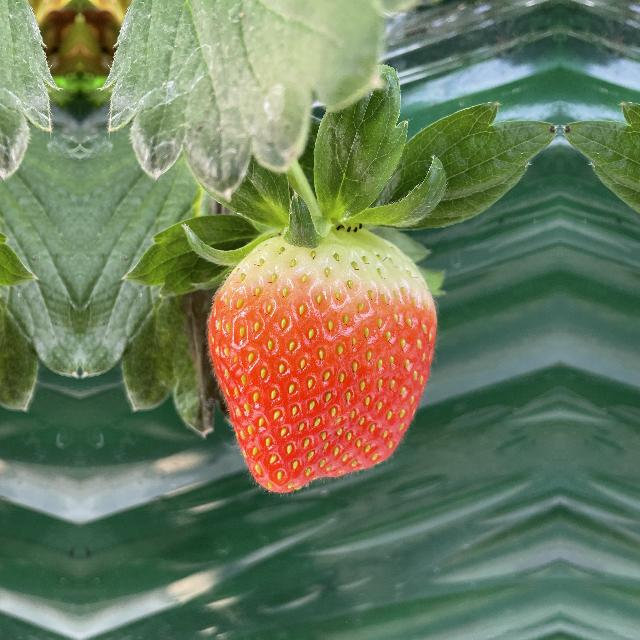Health_100: (192, 211, 446, 503)
